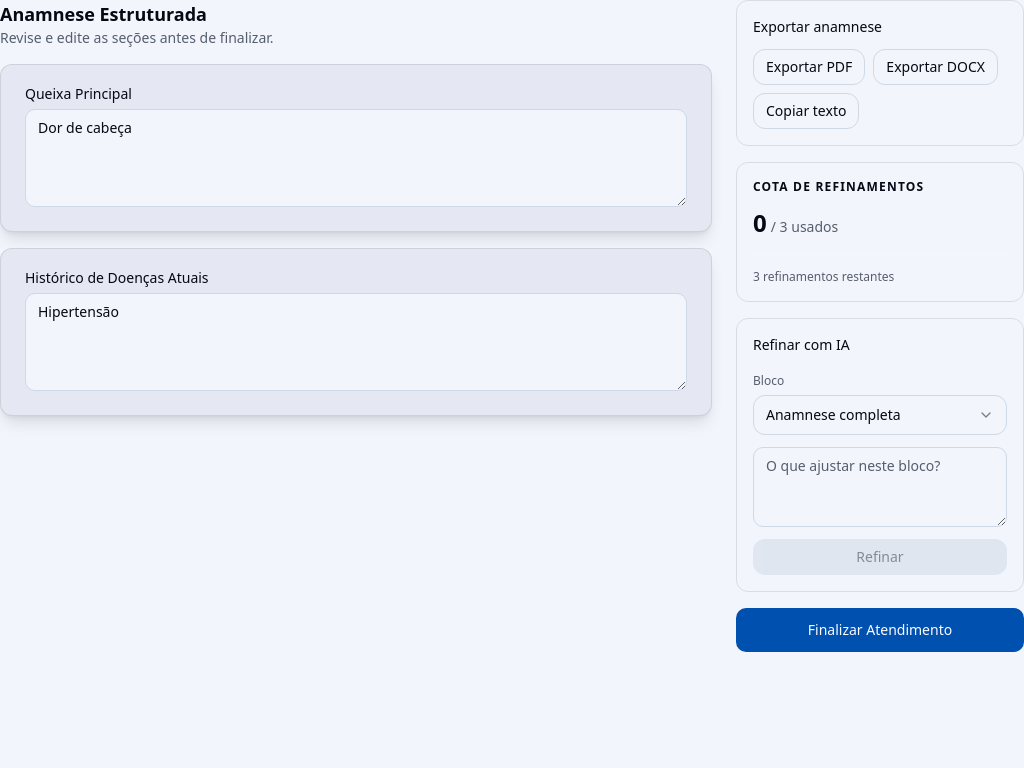
StepAnamnesis — modal de finalização simplificado › abre modal de confirmação ao clicar em Finalizar Atendimento
Click the button "Finalizar Atendimento": [880, 630] box [736,608,1023,652]
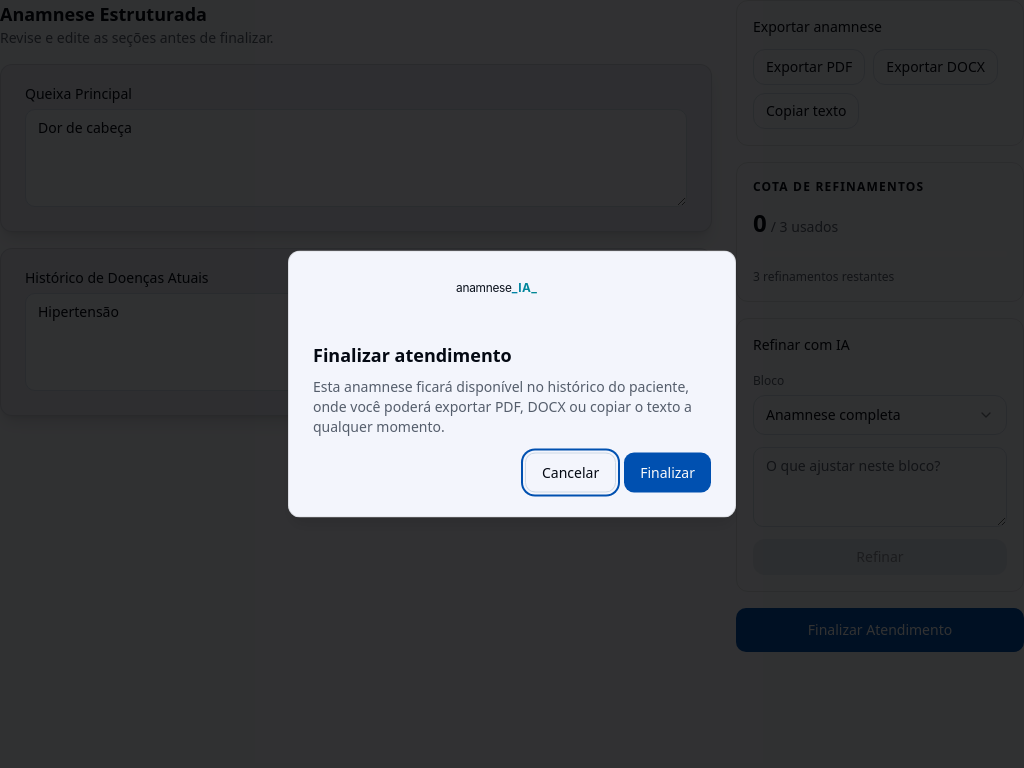
Check: the dialog is shown, box [288,250,736,518]
